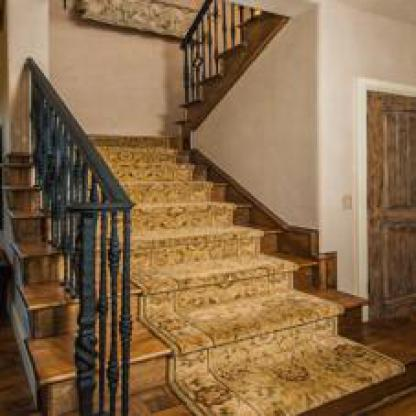stair_up: (156, 278, 414, 414)
